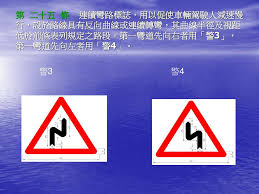Double_bend_left: (155, 100, 229, 158)
Double_bend_right: (21, 96, 102, 156)
